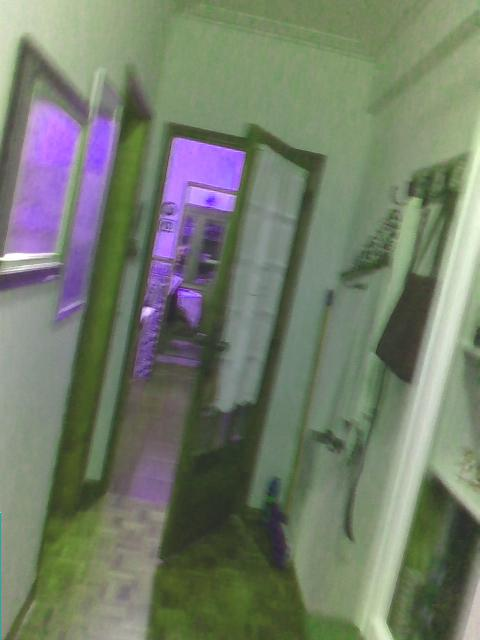semi_door: (101, 120, 328, 563)
